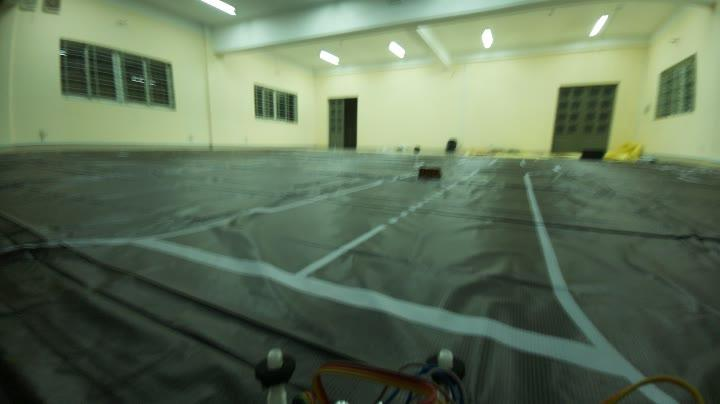roadblock: (416, 164, 445, 181)
